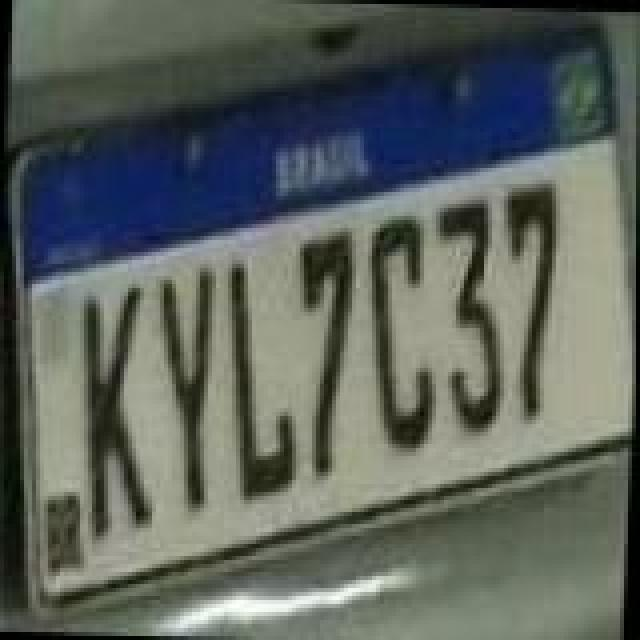3: (424, 192, 512, 436)
7: (288, 226, 356, 478), (490, 176, 558, 424)
C: (356, 212, 444, 456)
K: (72, 278, 160, 542)
L: (218, 252, 306, 504)
Y: (146, 264, 218, 512)
